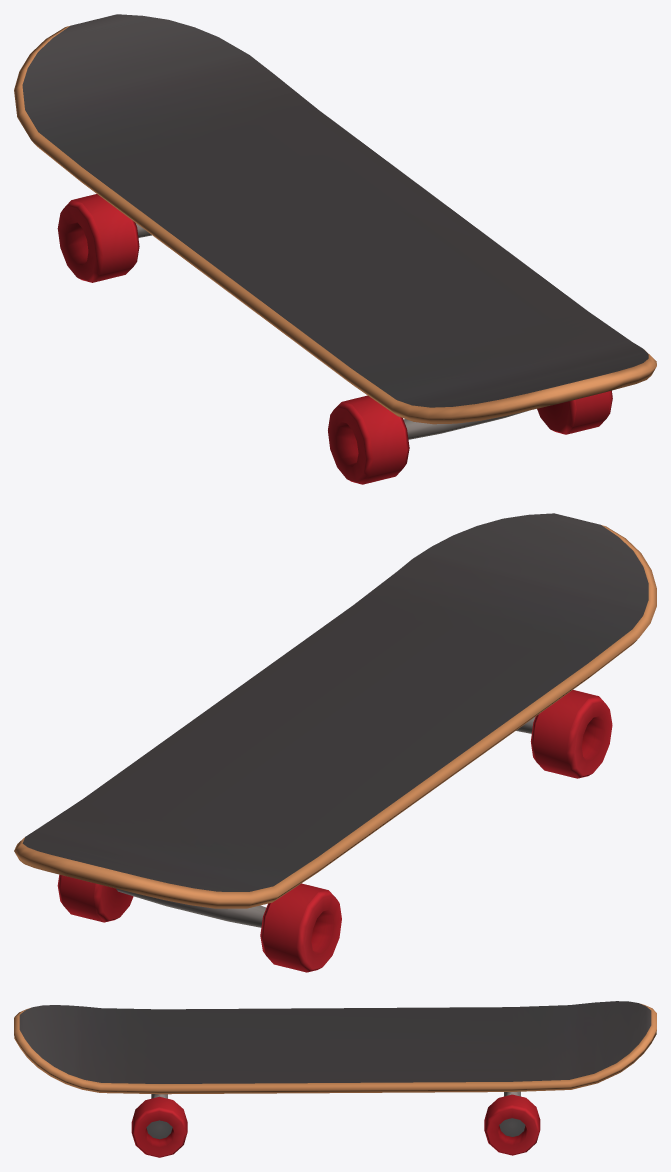
Rendered from surfboard.fbx.
The picture shows the model from 3 angles, top to bottom: view 1: azimuth 30°, elevation 25°; view 2: azimuth 150°, elevation 25°; view 3: azimuth 270°, elevation 25°; orthographic projection. The views are drawn at different scales.
Parts seen in each view (by area): view 1: surfboard; view 2: surfboard; view 3: surfboard.
Boxes of the visible parts, x1=… form: surfboard: x1=14, y1=14, x2=656, y2=484; surfboard: x1=14, y1=513, x2=656, y2=972; surfboard: x1=14, y1=1001, x2=656, y2=1157.
Bounding box in the file's own units: 0.189 × 0.1144 × 0.649.
1 material, 1 textured.
